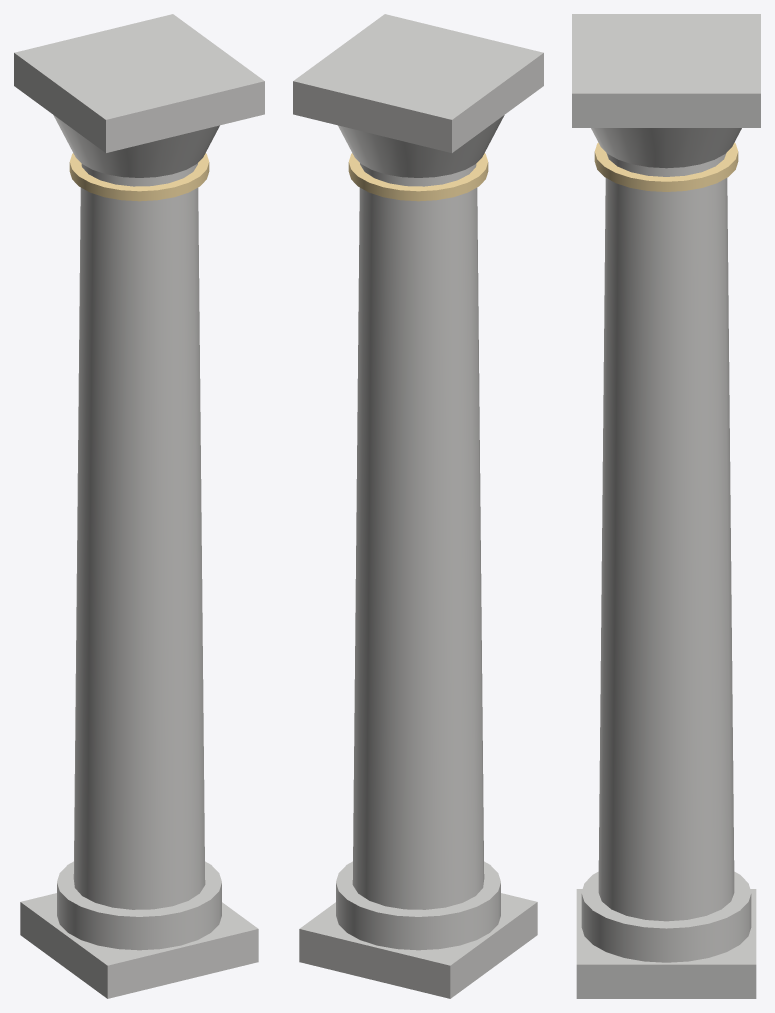
Rendered from column.glb.
The picture shows the model from 3 angles, left to right: view 1: azimuth 30°, elevation 25°; view 2: azimuth 150°, elevation 25°; view 3: azimuth 270°, elevation 25°; orthographic projection. The views are drawn at different scales.
Visible parts, largest first — view 1: column, band; view 2: column, band; view 3: column, band.
Part boxes in pixels (x1=…): column: x1=14, y1=14, x2=264, y2=998; band: x1=69, y1=153, x2=209, y2=201; column: x1=293, y1=14, x2=543, y2=998; band: x1=348, y1=153, x2=488, y2=201; column: x1=572, y1=14, x2=760, y2=998; band: x1=594, y1=142, x2=738, y2=191.
Size of the model in its own units: 1 by 5.3 by 1.
